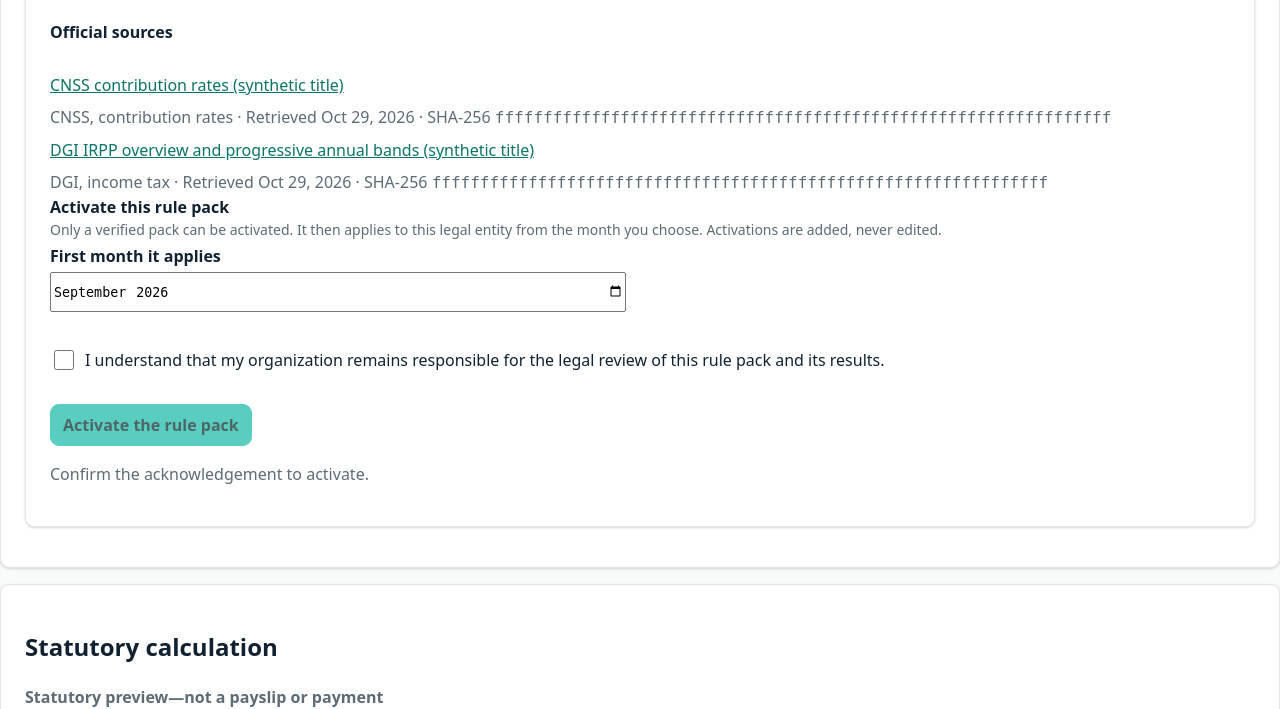
Test: MVP-094B rule-pack panel (en) › shows the domain error when the pack is not applicable, and keeps the form
(page scrolled)
Click the checkbox named "I understand that my organization remains responsible for the legal review of this rule pack and its results.": click(64, 360) [54,350,74,370]
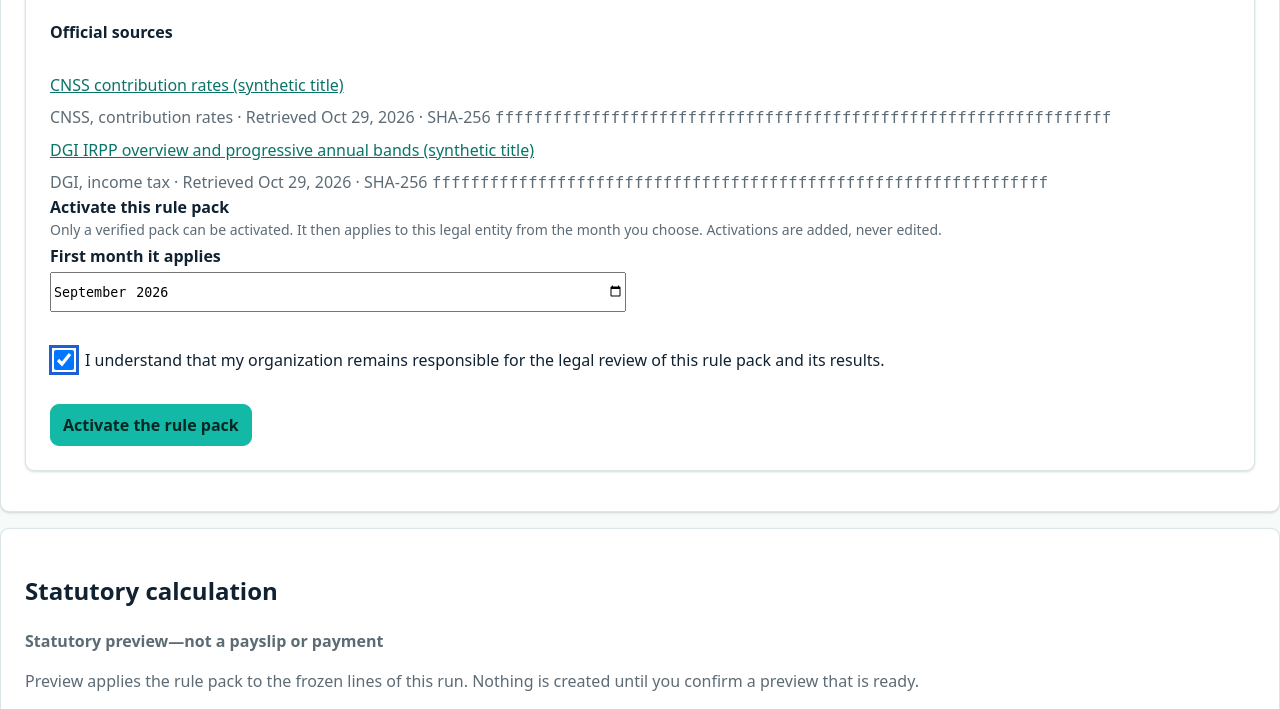
Click the button with test id "statutory-activate": click(151, 425) [50,404,252,446]
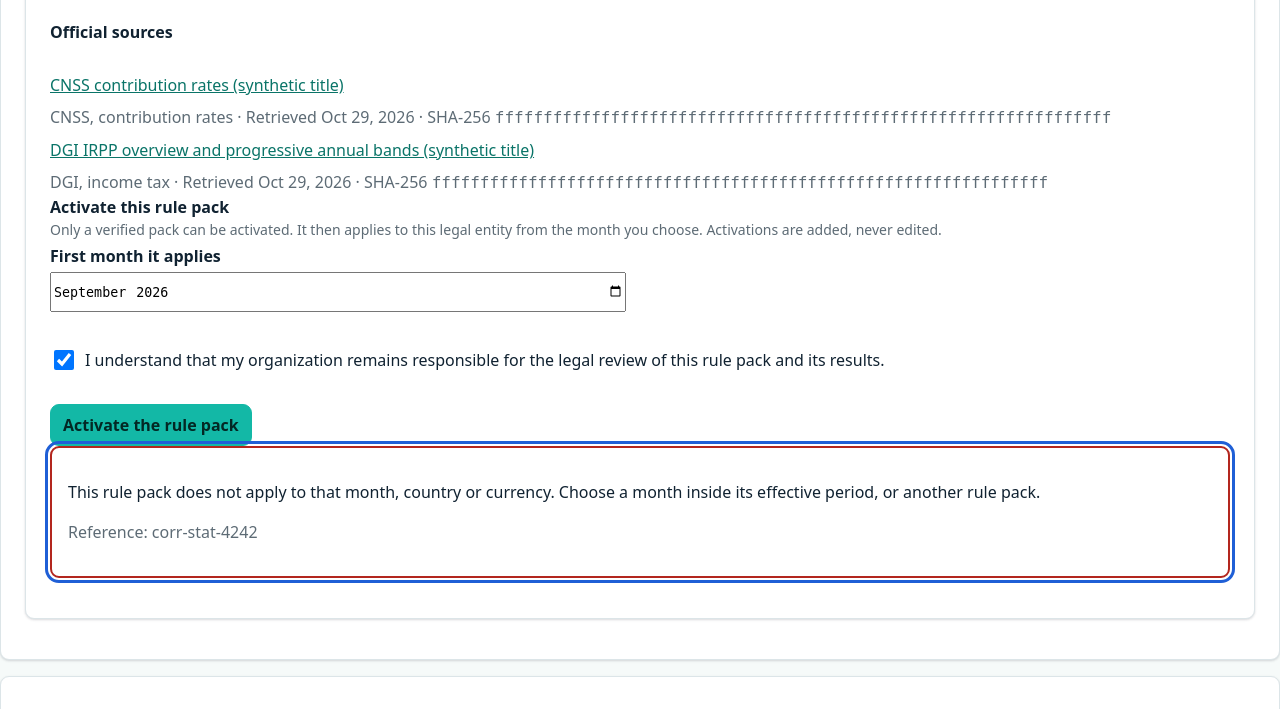
Now the button with test id "statutory-activate" is enabled, box [50,404,252,446]
Now the message with test id "statutory-activation-failure" shows "This rule pack does not apply to that month, country or currency. Choose a month inside its effective period, or another rule pack.", box [68,481,1040,503]
